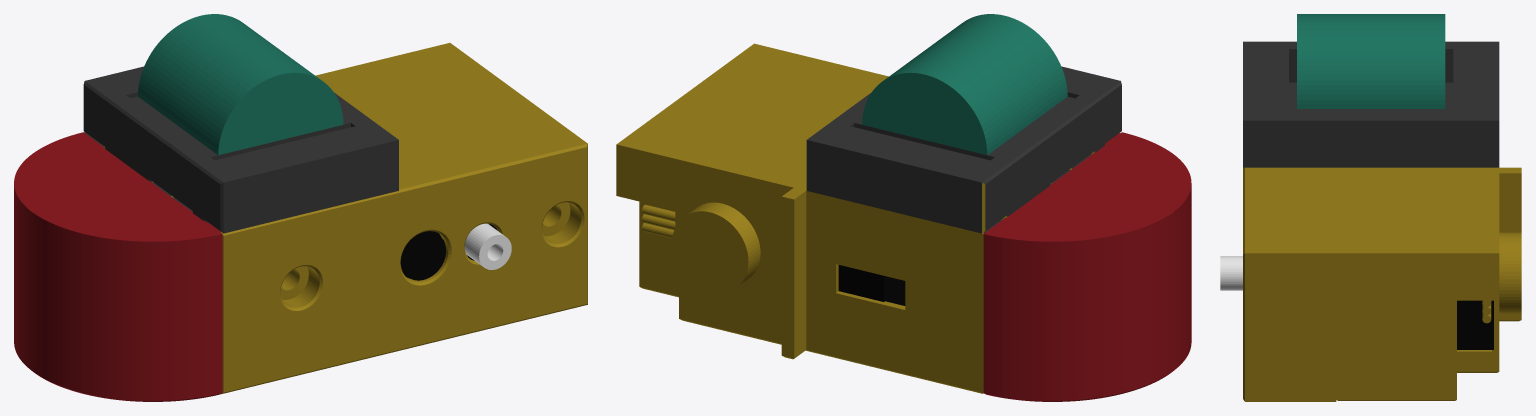
The model's file is finger_link131.dae.
3 renders of one model, left to right at view 1: azimuth 30°, elevation 25°; view 2: azimuth 150°, elevation 25°; view 3: azimuth 270°, elevation 25°, orthographic. The views are drawn at different scales.
Visible parts, largest first — view 1: finger_link131.001; view 2: finger_link131.001; view 3: finger_link131.001.
Boxes of the visible parts, x1,y1,x2,y2 form: finger_link131.001: (14, 14, 587, 401); finger_link131.001: (616, 14, 1191, 401); finger_link131.001: (1220, 14, 1521, 401).
Size of the model in its own units: 69.99 by 40.63 by 38.15.
